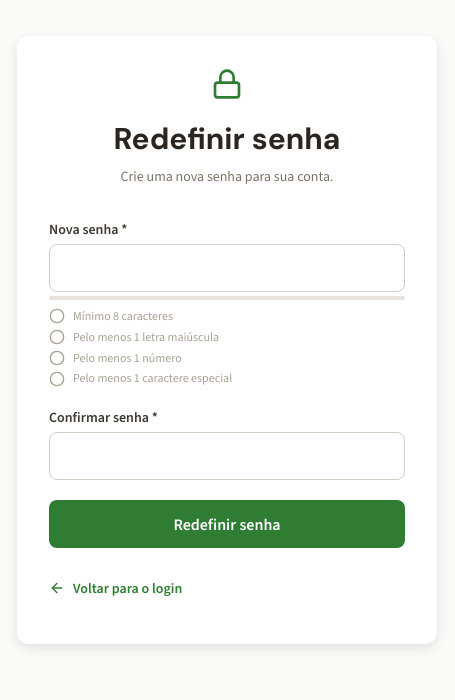
ResetPasswordPage › shows error from API on failure
Type "StrongPass1!" into the password field labelled "Nova senha *" at {"x": 227, "y": 268}, box x1=49 y1=244 x2=405 y2=292
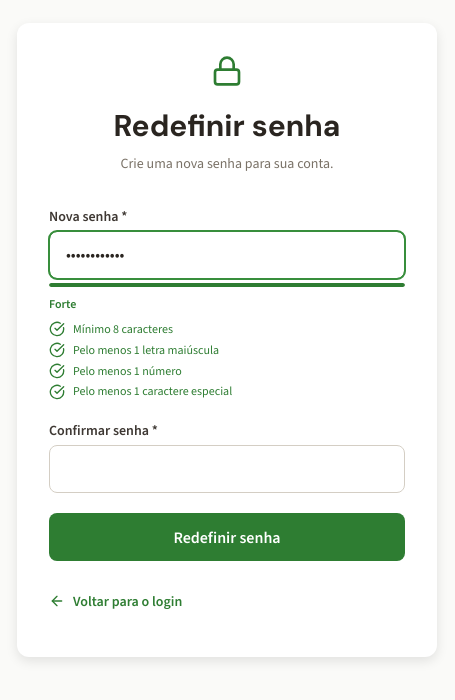
Type "StrongPass1!" into the password field labelled "Confirmar senha *" at {"x": 227, "y": 469}, box x1=49 y1=445 x2=405 y2=493
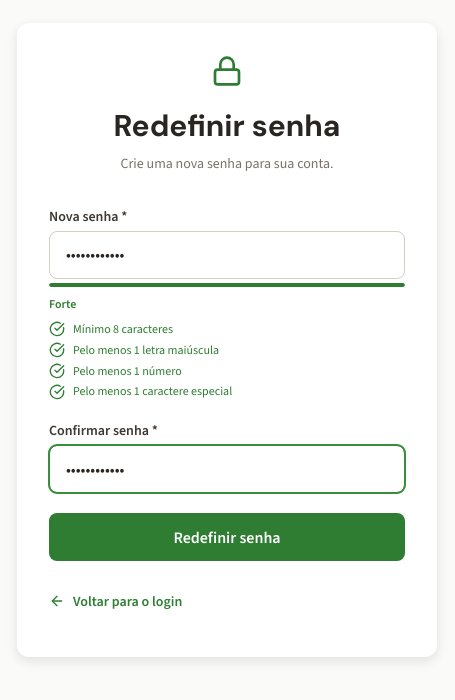
Click the button "Redefinir senha" at {"x": 227, "y": 537}, box x1=49 y1=513 x2=405 y2=561
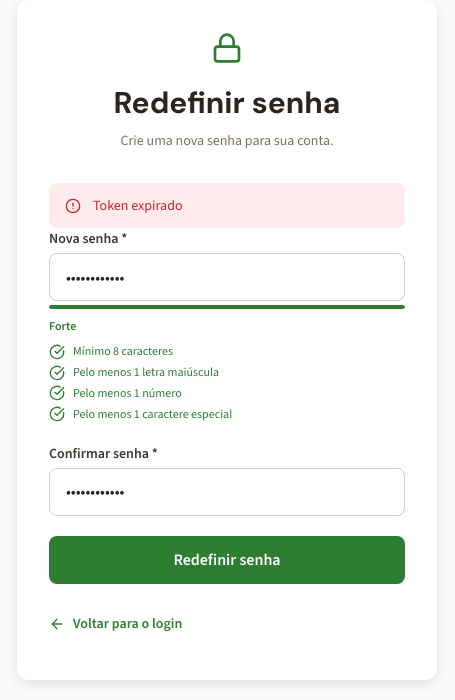
Expected: the message reads "Token expirado", x1=93 y1=196 x2=182 y2=215
